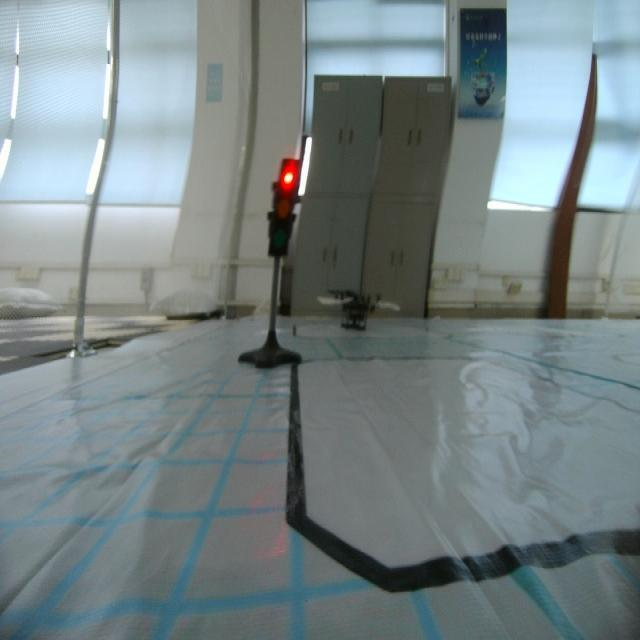red: (268, 149, 299, 255)
